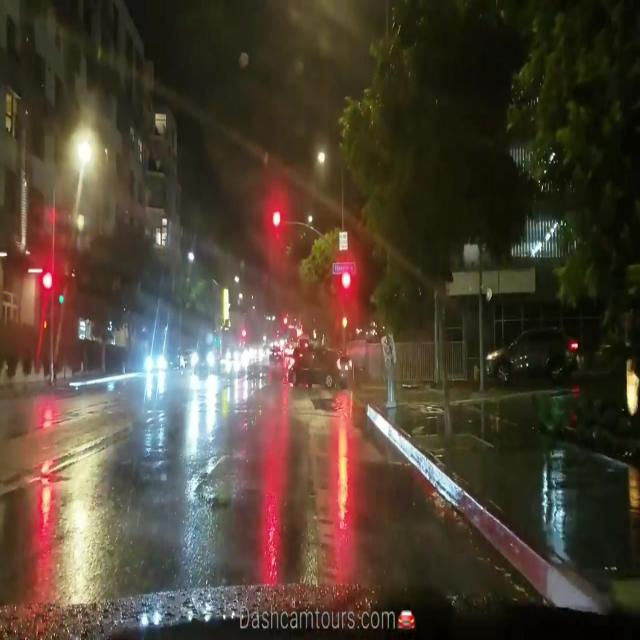Car: (484, 324, 578, 385), (286, 349, 352, 391)
